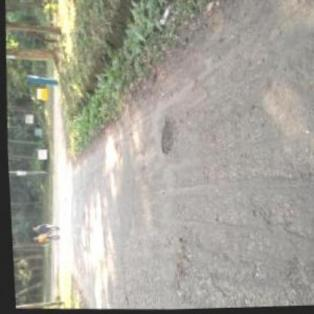Hueco: (156, 114, 181, 154), (172, 243, 191, 276)
